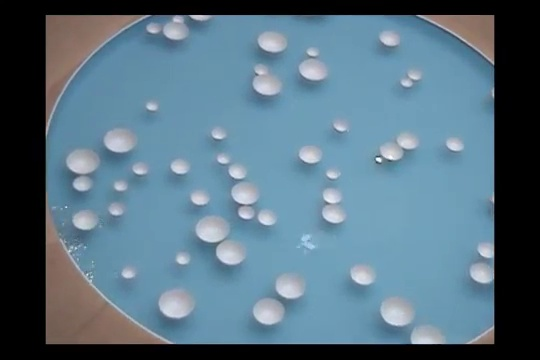bowl: (157, 287, 196, 319), (379, 295, 417, 326), (252, 297, 286, 326), (65, 147, 101, 174), (196, 215, 231, 242), (257, 27, 289, 55), (275, 271, 307, 299), (104, 127, 137, 153), (409, 323, 448, 345), (216, 240, 247, 265), (252, 74, 284, 98), (298, 58, 328, 83), (231, 180, 260, 204), (469, 258, 494, 285), (349, 263, 378, 286), (321, 202, 348, 225), (72, 209, 99, 231), (162, 21, 190, 41), (380, 142, 406, 163), (298, 144, 324, 165), (376, 29, 403, 48), (396, 131, 419, 150), (321, 187, 344, 205), (258, 208, 279, 227), (72, 175, 94, 193), (191, 189, 212, 207), (170, 158, 191, 175), (333, 117, 352, 134), (229, 163, 248, 180), (478, 240, 494, 260), (446, 137, 465, 153), (132, 161, 150, 177), (210, 125, 228, 141), (238, 205, 257, 220), (189, 12, 217, 22), (108, 201, 125, 217), (407, 67, 424, 82), (174, 251, 191, 266), (254, 63, 271, 77), (145, 22, 163, 35), (122, 265, 138, 279), (325, 168, 341, 181), (114, 179, 129, 192), (305, 45, 321, 57), (400, 76, 414, 88), (217, 153, 231, 164), (145, 101, 160, 111), (172, 14, 187, 23), (490, 190, 494, 204), (491, 87, 495, 99)
